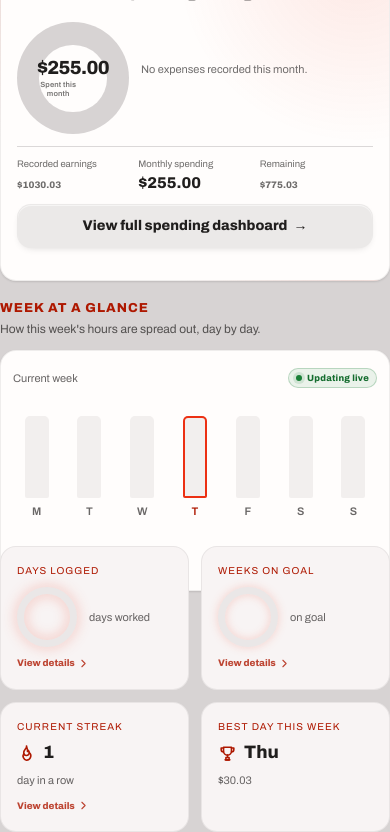
Home active-shift rendering › updates the timer and live earnings without rerunning the HomeScreen aggregate tree
The image size is (390, 832).
(page scrolled)
Check: the list item "No expenses recorded this month." is shown, box [141,63,308,75]
Check: the table "Hours worked each day this week" shows "1.00h", box [146,504,184,520]
Click the 2nd button "T" at (195, 463), box [171,405,219,521]
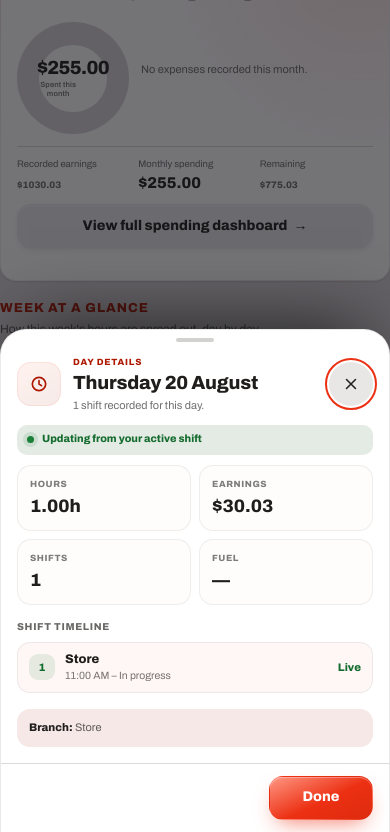
Check: the dialog "Thursday 20 August" shows "Store", box [65,652,99,666]
Check: the dialog "Thursday 20 August" shows "$30.03", box [212,496,273,516]
Click the button named "Close day details" at (351, 384), box [329,362,373,406]
Wait 200 ms
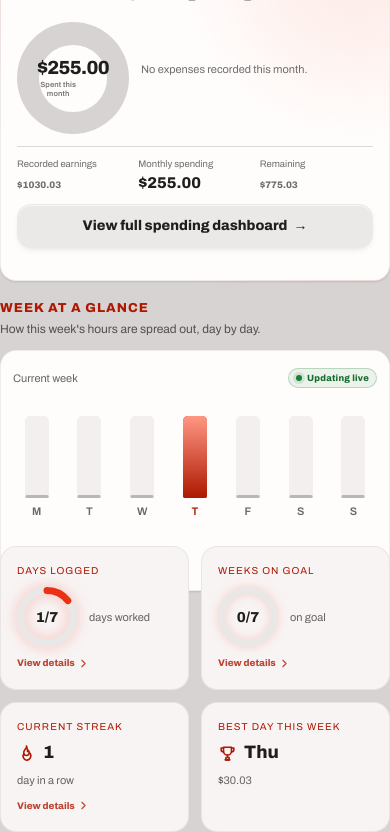
Check: the heading "Thursday 20 August" is gone
Press ArrowLeft in the 2nd button "T", box [171,405,219,521]
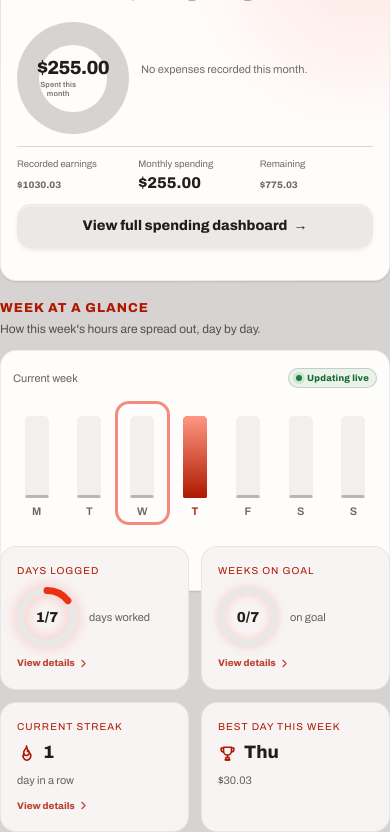
Click the button "W" at (142, 463), box [119,405,166,521]
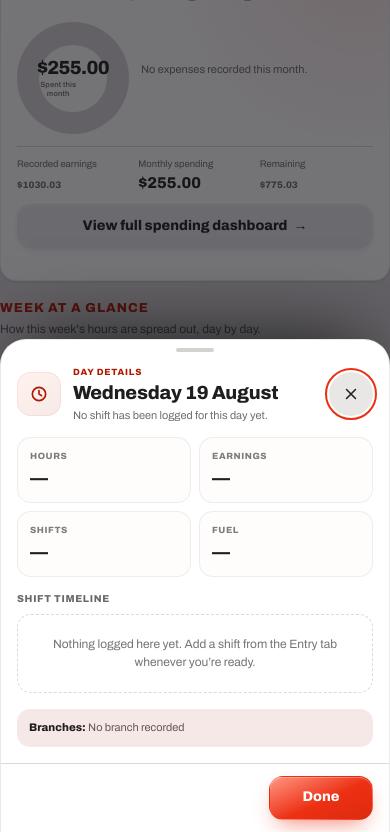
Check: the dialog "Wednesday 19 August" shows "No branch recorded", box [88,721,184,733]
Click the button named "Close day details" at (351, 395), box [329,373,373,417]
Wait 200 ms
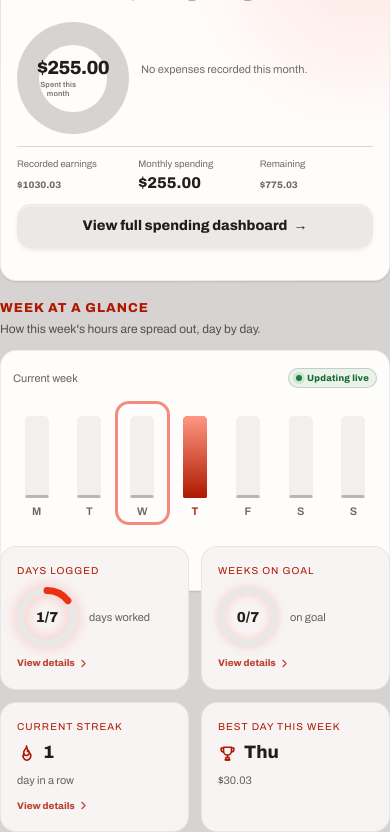
Check: the heading "Wednesday 19 August" is gone
